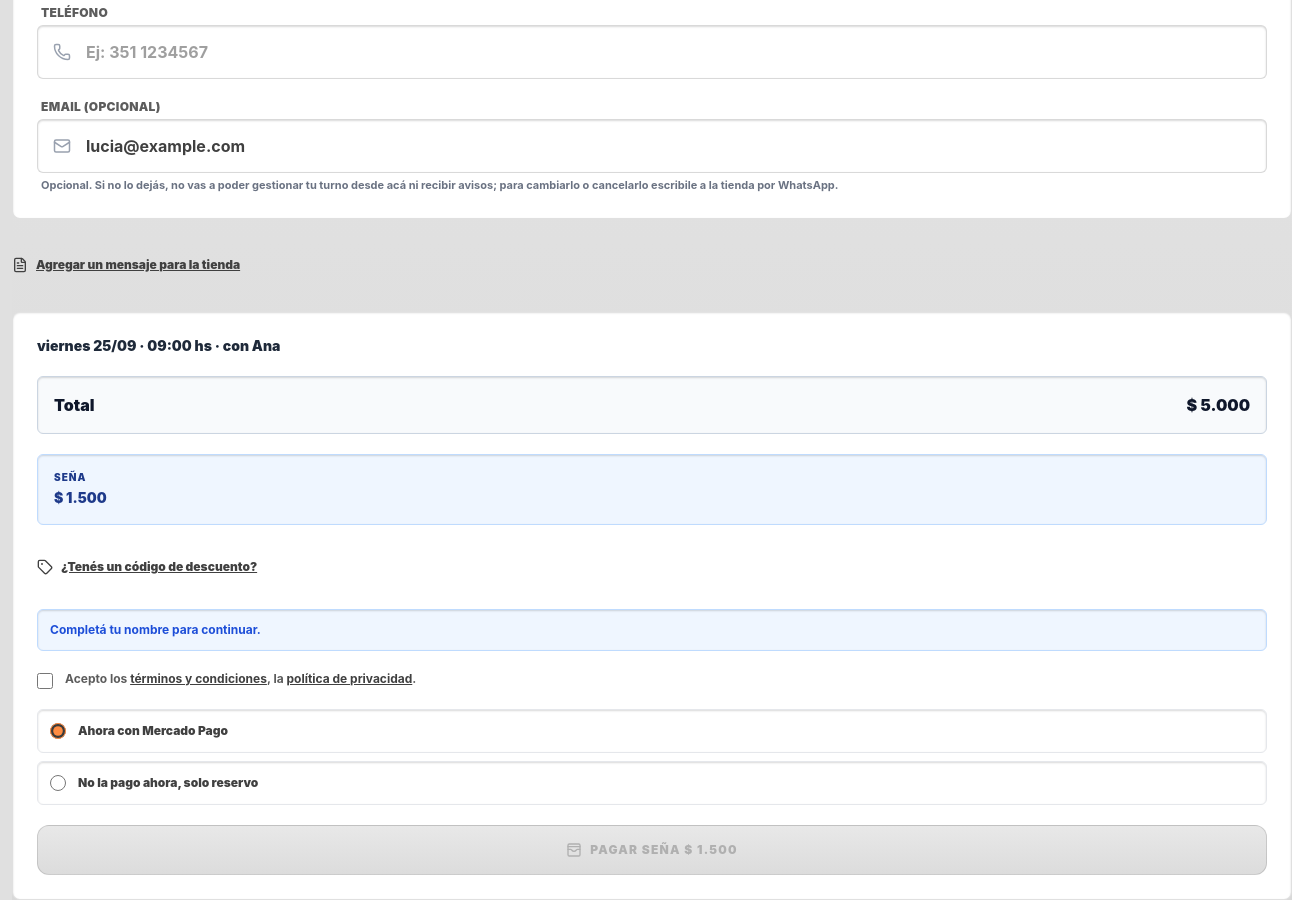
BookingStepConfirmation › vista previa de la seña › con seña opcional el boton manual confirma la reserva, no pide pagar por WhatsApp
The width and height of the screenshot is (1292, 900).
(page scrolled)
Expected: the button "Pagar seña $ 1.500" is shown, [37,825,1267,875]
Click the radio button labelled "No la pago ahora, solo reservo". click: (58, 783)
box: [50,775,66,791]
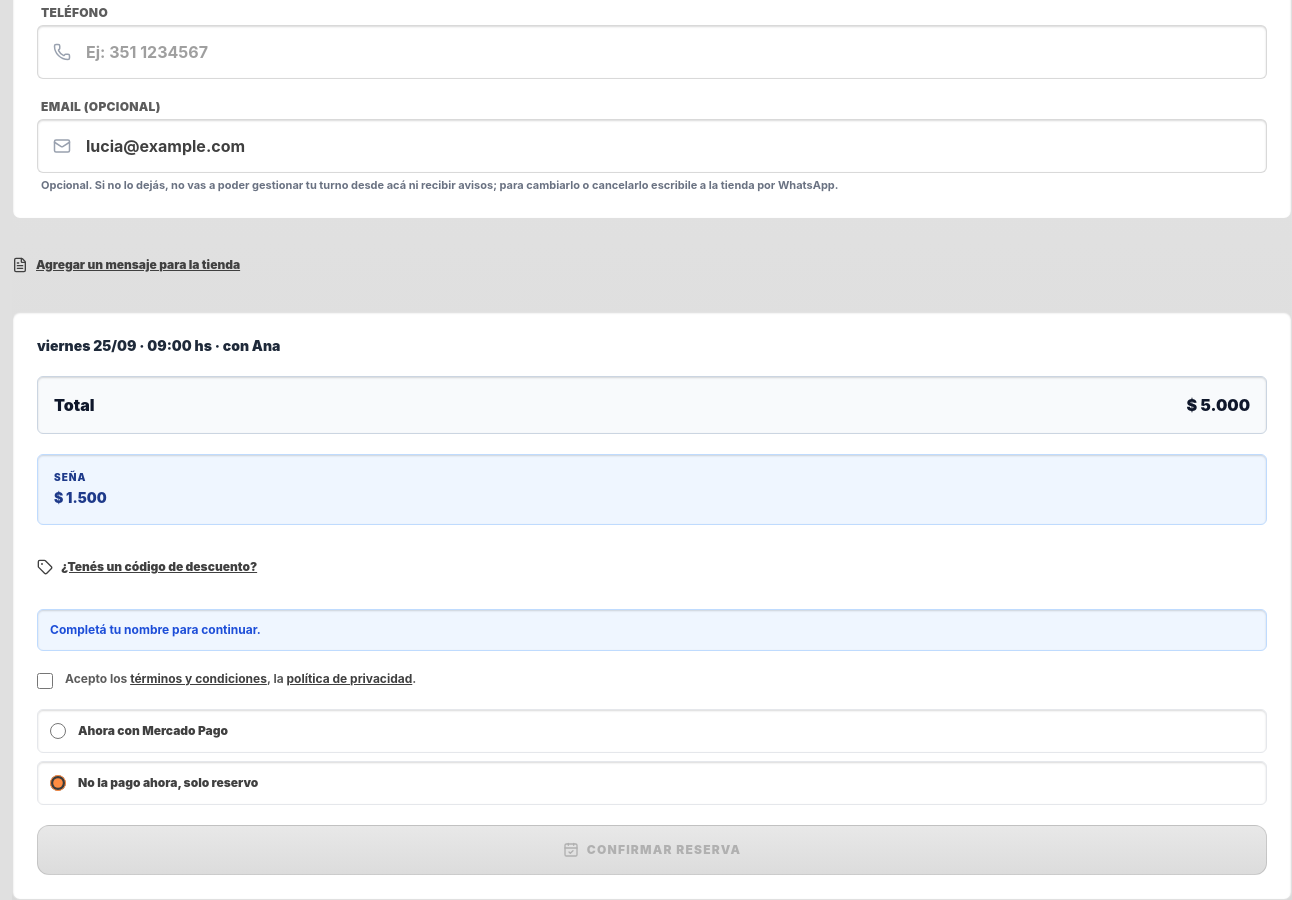
Now the button "Confirmar reserva" is shown, box [37,825,1267,875]
